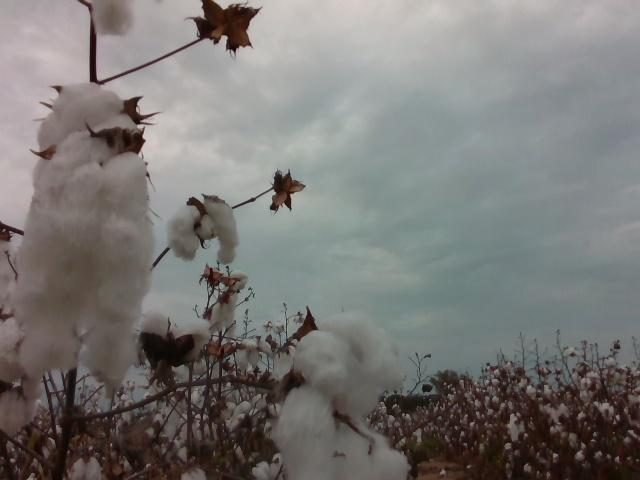cotton_ready: (20, 131, 150, 386), (272, 385, 411, 480), (31, 82, 140, 192), (294, 312, 405, 419), (165, 200, 239, 266), (132, 310, 214, 366), (0, 343, 41, 434), (0, 239, 28, 359), (210, 271, 249, 331), (89, 0, 134, 36), (234, 336, 274, 371), (68, 456, 105, 480)
